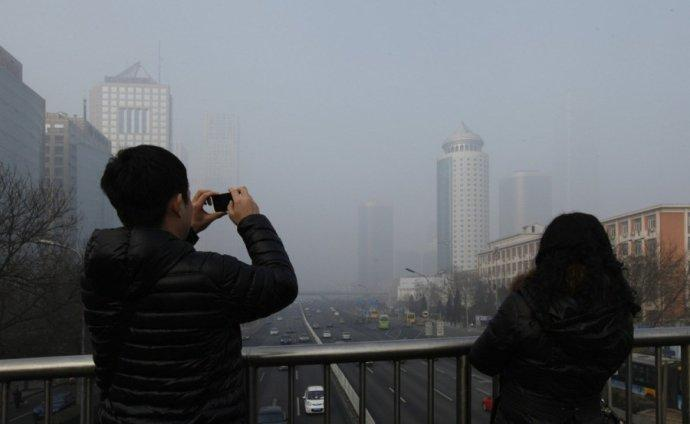bus: (573, 352, 682, 424), (406, 312, 417, 324), (366, 310, 379, 320)
car: (302, 386, 327, 414), (258, 405, 286, 424), (32, 404, 62, 418), (481, 395, 504, 412), (53, 391, 73, 408), (378, 314, 391, 330), (280, 334, 294, 346), (299, 332, 310, 343), (341, 331, 353, 340), (270, 327, 280, 336), (323, 331, 330, 338)
person: (78, 143, 298, 424), (466, 211, 640, 424)
